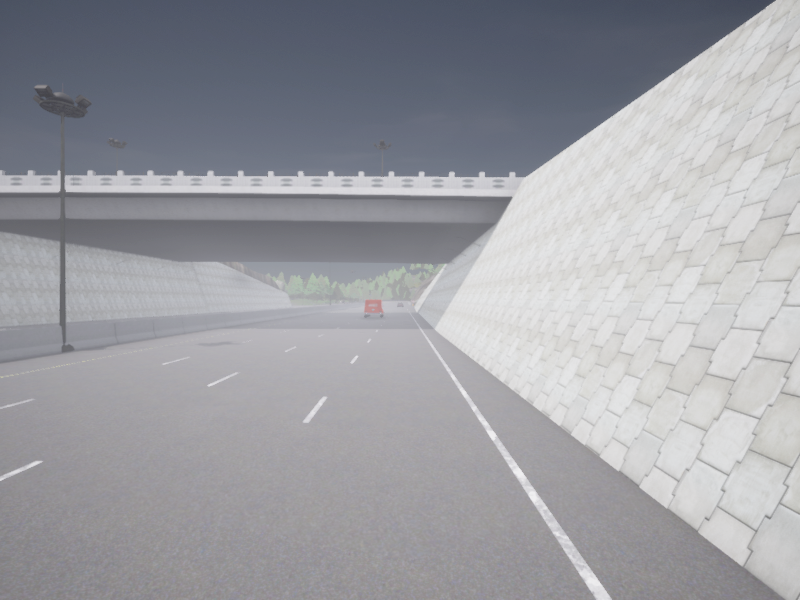vehicle: (364, 299, 383, 317), (397, 302, 403, 307)
